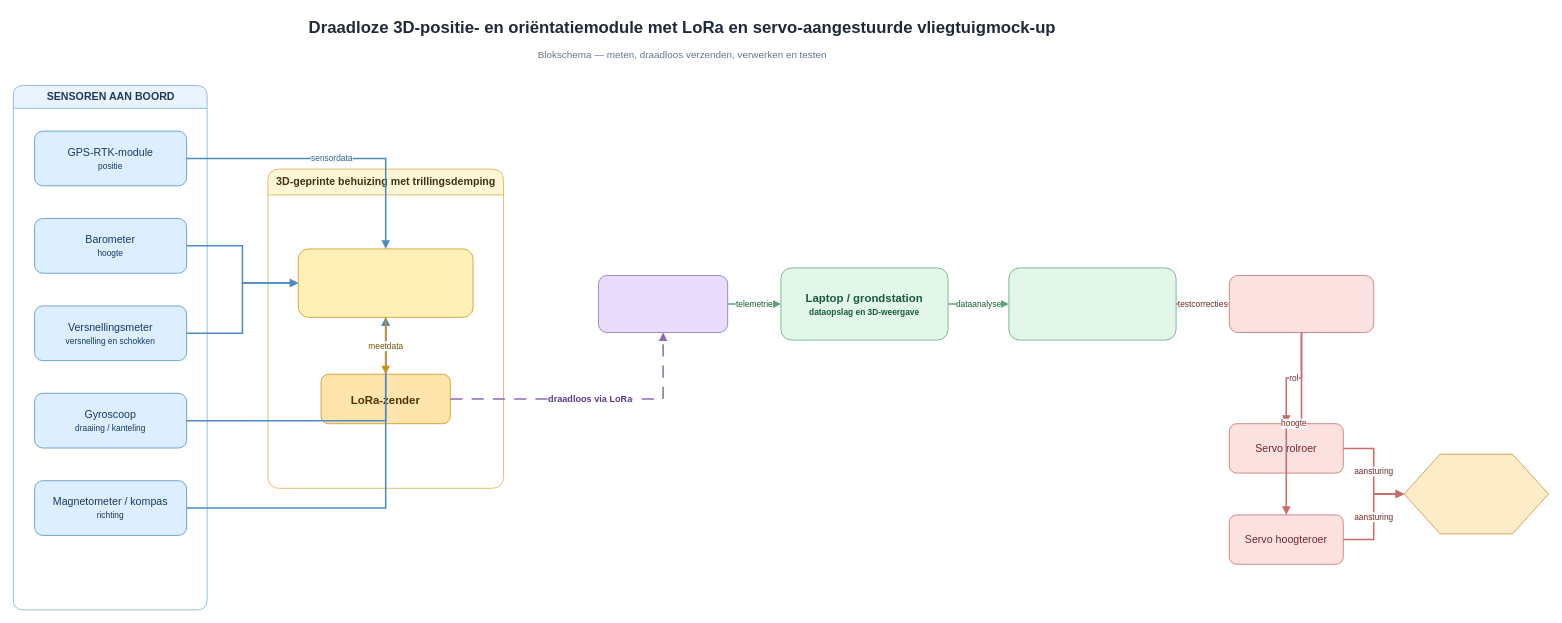
The diagram is 1562 pixels wide and 623 high, and some of its shapes have lost their labels. Here are the shapes that lost their labels. From the top down, the centre of each, then its label:
At point (385, 282): "Microcontroller / PCB sensordata verwerken".
At point (663, 303): "LoRa-ontvanger".
At point (1092, 303): "Berekenprogramma eenvoudige stuurcorrectie".
At point (1301, 303): "Tweede microcontroller".
At point (1475, 493): "Stilstaande vliegtuig-mock-up".
